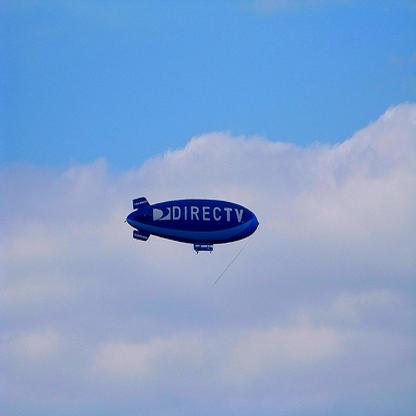Airship: (126, 194, 261, 256)
